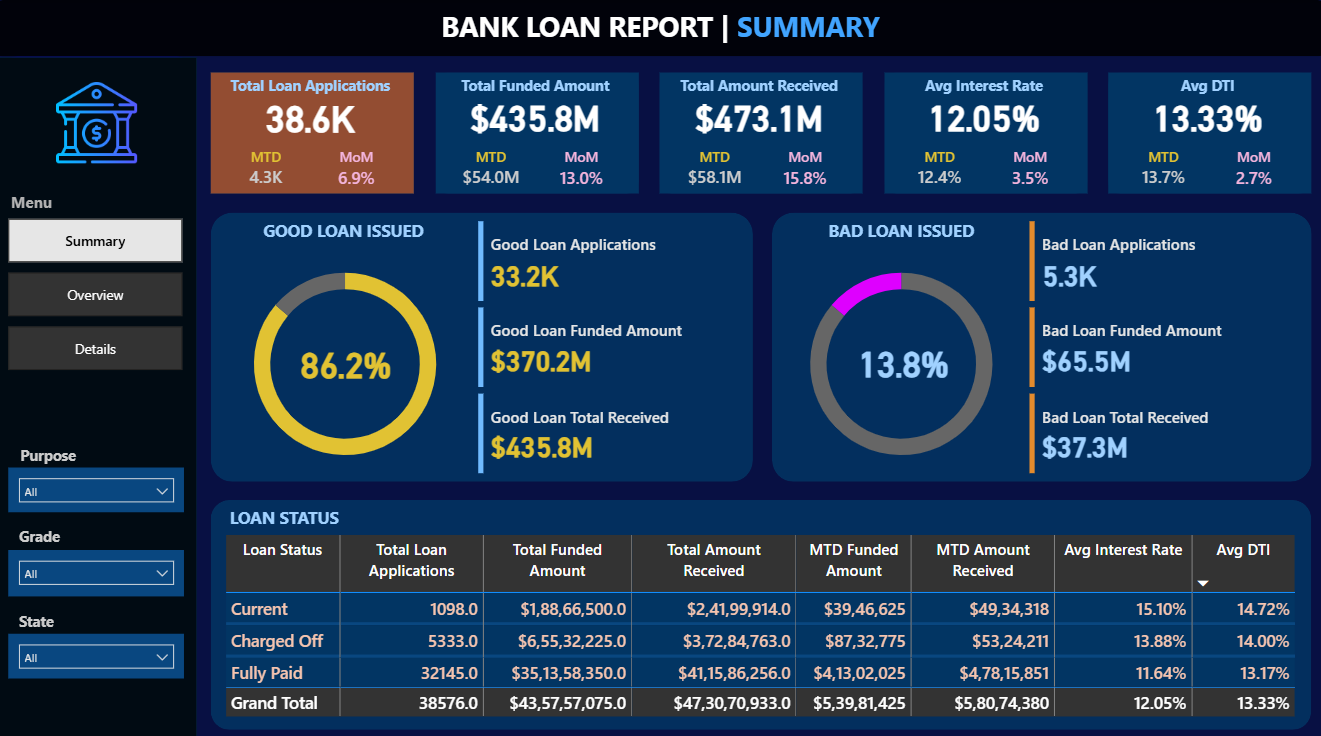

Layout of this report page (visuals, bound fields, positions):
{"tool":"powerbi","page":{"name":"Summary","canvas":[1280,720],"ordinal":0},"visuals":[{"type":"shape","box":[0,0,1280.5,54.6],"z":0},{"type":"group","id":"g1","title":"Group 1","box":[203.1,69.4,199.4,120.6],"z":0,"group":"g7"},{"type":"group","id":"g2","title":"Group 1","box":[419.5,69.4,199.4,120.6],"z":0,"group":"g8"},{"type":"group","id":"g3","title":"Group 1","box":[636,69.4,199.4,120.6],"z":0,"group":"g9"},{"type":"group","id":"g4","title":"Group 1","box":[852.6,69.4,199.4,120.6],"z":0,"group":"g10"},{"type":"group","id":"g5","title":"Group 1","box":[1069.1,69.4,199.4,120.6],"z":0,"group":"g11"},{"type":"textbox","box":[203.6,67.3,199.3,30.8],"z":1000,"group":"g7"},{"type":"textbox","box":[420,67.3,199.3,30.8],"z":1000,"group":"g8"},{"type":"textbox","box":[636.5,67.3,199.3,30.8],"z":1000,"group":"g9"},{"type":"textbox","box":[853.1,67.3,199.3,30.8],"z":1000,"group":"g10"},{"type":"textbox","box":[1069.6,67.3,199.3,30.8],"z":1000,"group":"g11"},{"type":"shape","box":[206.5,205.3,523.3,259.9],"z":1000},{"type":"textbox","box":[229.2,206.5,210.1,39.2],"z":1000,"group":"g6"},{"type":"textbox","box":[9.6,424.9,79.3,30.1],"z":1000,"group":"g20"},{"type":"textbox","box":[219.5,483.9,210.1,35.5],"z":1000,"group":"g19"},{"type":"textbox","box":[10.3,503.4,62.5,32.4],"z":1000,"group":"g21"},{"type":"textbox","box":[2.1,584.6,71.2,29.7],"z":1000,"group":"g22"},{"type":"shape","box":[747.6,205.3,521,259.9],"z":2000},{"type":"shape","box":[0,54.6,192.9,665.8],"z":3000},{"type":"shape","box":[206.5,69.4,195.9,117.2],"z":3000,"group":"g1"},{"type":"shape","box":[422.9,69.4,195.9,117.2],"z":3000,"group":"g2"},{"type":"shape","box":[639.4,69.4,195.9,117.2],"z":3000,"group":"g3"},{"type":"shape","box":[856,69.4,195.9,117.2],"z":3000,"group":"g4"},{"type":"shape","box":[1072.5,69.4,195.9,117.2],"z":3000,"group":"g5"},{"type":"group","id":"g6","title":"Group 2","box":[229.2,206.5,210.1,39.2],"z":4000},{"type":"textbox","box":[760.7,206.5,223.1,32],"z":5000},{"type":"shape","box":[0,54.9,192.7,665.1],"z":6000},{"type":"textbox","box":[403,2.1,474.5,45.6],"z":7000},{"type":"group","id":"g7","title":"Group 2","box":[203.1,67.3,199.8,122.6],"z":7000,"group":"g12"},{"type":"group","id":"g8","title":"Group 2","box":[419.5,67.3,199.8,122.6],"z":7000,"group":"g13"},{"type":"group","id":"g9","title":"Group 2","box":[636,67.3,199.8,122.6],"z":7000,"group":"g14"},{"type":"group","id":"g10","title":"Group 2","box":[852.6,67.3,199.8,122.6],"z":7000,"group":"g15"},{"type":"group","id":"g11","title":"Group 2","box":[1069.1,67.3,199.8,122.6],"z":7000,"group":"g16"},{"type":"card","fields":{"Values":["financial_loan.Total Loan Applications"]},"box":[203.1,88.3,199.3,45.5],"z":8000,"group":"g1"},{"type":"card","fields":{"Values":["financial_loan.Total Loan Amount"]},"box":[419.5,88.3,199.3,45.5],"z":8000,"group":"g2"},{"type":"card","fields":{"Values":["financial_loan.Total Amount Collection"]},"box":[636,88.3,199.3,45.5],"z":8000,"group":"g3"},{"type":"card","fields":{"Values":["financial_loan.Avg Interest Rate"]},"box":[852.6,88.3,199.3,45.5],"z":8000,"group":"g4"},{"type":"card","fields":{"Values":["financial_loan.Avg DTI"]},"box":[1069.1,88.3,199.3,45.5],"z":8000,"group":"g5"},{"type":"card","title":"MoM","fields":{"Values":["financial_loan.YOY Loan Applications"]},"box":[303.6,141.9,88.1,48.7],"z":8000,"group":"g12"},{"type":"card","title":"MoM","fields":{"Values":["financial_loan.YOY Loan Amount"]},"box":[520,141.9,88.1,48.7],"z":8000,"group":"g13"},{"type":"card","title":"MoM","fields":{"Values":["financial_loan.YOY Loan Collection"]},"box":[736.5,141.9,88.1,48.7],"z":8000,"group":"g14"},{"type":"card","title":"MoM","fields":{"Values":["financial_loan.YOY Int Rate"]},"box":[953.1,141.9,88.1,48.7],"z":8000,"group":"g15"},{"type":"card","title":"MoM","fields":{"Values":["financial_loan.YOY DTI"]},"box":[1169.6,141.9,88.1,48.7],"z":8000,"group":"g16"},{"type":"card","title":"MTD","fields":{"Values":["financial_loan.MTD Applications"]},"box":[209.8,142,99.3,48],"z":9000,"group":"g1"},{"type":"card","title":"MTD","fields":{"Values":["financial_loan.MTD Loan Amount"]},"box":[426.2,142,99.3,48],"z":9000,"group":"g2"},{"type":"card","title":"MTD","fields":{"Values":["financial_loan.MTD Loan Collection"]},"box":[642.7,142,99.3,48],"z":9000,"group":"g3"},{"type":"card","title":"MTD","fields":{"Values":["financial_loan.MTD Avg Int Rate"]},"box":[859.3,142,99.3,48],"z":9000,"group":"g4"},{"type":"card","title":"MTD","fields":{"Values":["financial_loan.MTD Avg DTI"]},"box":[1075.8,142,99.3,48],"z":9000,"group":"g5"},{"type":"group","id":"g12","title":"Group 3","box":[203.1,67.3,199.8,123.3],"z":10000},{"type":"group","id":"g13","title":"Group 3","box":[419.5,67.3,199.9,123.3],"z":11000},{"type":"donutChart","fields":{"Y":["financial_loan.Total Loan Applications"],"Category":["financial_loan.Fully Paid Status"]},"box":[211.2,236.2,250,230],"z":11000,"group":"g17"},{"type":"donutChart","fields":{"Y":["financial_loan.Total Loan Applications"],"Category":["financial_loan.Fully Paid Status"]},"box":[747.6,236.2,250,230],"z":11000,"group":"g18"},{"type":"group","id":"g14","title":"Group 3","box":[636,67.3,199.9,123.3],"z":12000},{"type":"card","fields":{"Values":["financial_loan.Good Loan Issued"]},"box":[279.6,318,114,63.2],"z":12000,"group":"g17"},{"type":"card","fields":{"Values":["financial_loan.Bad Loan"]},"box":[816.4,320.5,116.3,57],"z":12000,"group":"g18"},{"type":"group","id":"g15","title":"Group 3","box":[852.6,67.3,199.9,123.3],"z":13000},{"type":"group","id":"g16","title":"Group 3","box":[1069.1,67.3,199.9,123.3],"z":14000},{"type":"group","id":"g17","title":"Group 4","box":[211.2,236.2,250,230],"z":15000},{"type":"group","id":"g18","title":"Group 4","box":[747.6,236.2,250,230],"z":16000},{"type":"shape","box":[206.5,483,1062.1,221.9],"z":17000},{"type":"cardVisual","fields":{"Data":["financial_loan.Good Loan Applications","financial_loan.Good Loan Funded Amount","financial_loan.Good Loan Total Collection"]},"box":[459.3,208.9,265.8,255.1],"z":18000},{"type":"cardVisual","fields":{"Data":["financial_loan.Bad Loan Applications","financial_loan.Bad Loan Funded Amount","financial_loan.Bad Loan Total Collection"]},"box":[992.1,208.9,265.8,255.1],"z":19000},{"type":"tableEx","title":"LOAN ISSUED BY STATUS","fields":{"Values":["financial_loan.loan_status","financial_loan.Total Loan Applications","financial_loan.Total Loan Amount","financial_loan.Total Amount Collection","financial_loan.MTD Loan Amount","financial_loan.MTD Loan Collection","financial_loan.Avg Interest Rate","financial_loan.Avg DTI"]},"box":[214.4,511.8,1046.3,192.7],"z":20000},{"type":"group","id":"g19","title":"Group 2","box":[219.5,483.9,210.1,35.5],"z":21000},{"type":"image","box":[26.8,69.2,138.4,99.3],"z":22000},{"type":"textbox","box":[8.3,180.3,157.5,34.2],"z":23000},{"type":"pageNavigator","box":[11.4,211.4,168.6,147.3],"z":24000},{"type":"slicer","fields":{"Values":["financial_loan.Good v Bad Loan"]},"box":[10.4,450.9,169.7,43],"z":25000},{"type":"slicer","fields":{"Values":["financial_loan.grade"]},"box":[10.7,530.6,169.9,44.5],"z":26000},{"type":"slicer","fields":{"Values":["financial_loan.address_state"]},"box":[10.4,611.2,169.9,43.5],"z":27000},{"type":"group","id":"g20","title":"Group 2","box":[9.6,424.9,79.3,30.1],"z":28000},{"type":"group","id":"g21","title":"Group 2","box":[10.3,503.4,62.5,32.4],"z":29000},{"type":"group","id":"g22","title":"Group 2","box":[2.1,584.6,71.2,29.7],"z":30000}]}

Visuals, with their boxes in screenshot pixels (x1, y1, x2, y2), scaled from the page's 1280x720 canvas onto the 1321x736 screenshot:
shape: Rect(0, 0, 1320, 56)
"Group 1" group: Rect(210, 71, 415, 194)
"Group 1" group: Rect(433, 71, 639, 194)
"Group 1" group: Rect(656, 71, 862, 194)
"Group 1" group: Rect(880, 71, 1086, 194)
"Group 1" group: Rect(1103, 71, 1309, 194)
textbox: Rect(210, 69, 416, 100)
textbox: Rect(433, 69, 639, 100)
textbox: Rect(657, 69, 863, 100)
textbox: Rect(880, 69, 1086, 100)
textbox: Rect(1104, 69, 1310, 100)
shape: Rect(213, 210, 753, 476)
textbox: Rect(237, 211, 453, 251)
textbox: Rect(10, 434, 92, 465)
textbox: Rect(227, 495, 443, 531)
textbox: Rect(11, 515, 75, 548)
textbox: Rect(2, 598, 76, 628)
shape: Rect(772, 210, 1309, 476)
shape: Rect(0, 56, 199, 735)
shape: Rect(213, 71, 415, 191)
shape: Rect(436, 71, 639, 191)
shape: Rect(660, 71, 862, 191)
shape: Rect(883, 71, 1086, 191)
shape: Rect(1107, 71, 1309, 191)
"Group 2" group: Rect(237, 211, 453, 251)
textbox: Rect(785, 211, 1015, 244)
shape: Rect(0, 56, 199, 735)
textbox: Rect(416, 2, 906, 49)
"Group 2" group: Rect(210, 69, 416, 194)
"Group 2" group: Rect(433, 69, 639, 194)
"Group 2" group: Rect(656, 69, 863, 194)
"Group 2" group: Rect(880, 69, 1086, 194)
"Group 2" group: Rect(1103, 69, 1310, 194)
card - financial_loan.Total Loan Applications: Rect(210, 90, 415, 137)
card - financial_loan.Total Loan Amount: Rect(433, 90, 639, 137)
card - financial_loan.Total Amount Collection: Rect(656, 90, 862, 137)
card - financial_loan.Avg Interest Rate: Rect(880, 90, 1086, 137)
card - financial_loan.Avg DTI: Rect(1103, 90, 1309, 137)
"MoM" card: Rect(313, 145, 404, 195)
"MoM" card: Rect(537, 145, 628, 195)
"MoM" card: Rect(760, 145, 851, 195)
"MoM" card: Rect(984, 145, 1075, 195)
"MoM" card: Rect(1207, 145, 1298, 195)
"MTD" card: Rect(217, 145, 319, 194)
"MTD" card: Rect(440, 145, 542, 194)
"MTD" card: Rect(663, 145, 766, 194)
"MTD" card: Rect(887, 145, 989, 194)
"MTD" card: Rect(1110, 145, 1213, 194)
"Group 3" group: Rect(210, 69, 416, 195)
"Group 3" group: Rect(433, 69, 639, 195)
donutChart - financial_loan.Total Loan Applications x financial_loan.Fully Paid Status: Rect(218, 241, 476, 477)
donutChart - financial_loan.Total Loan Applications x financial_loan.Fully Paid Status: Rect(772, 241, 1030, 477)
"Group 3" group: Rect(656, 69, 863, 195)
card - financial_loan.Good Loan Issued: Rect(289, 325, 406, 390)
card - financial_loan.Bad Loan: Rect(843, 328, 963, 386)
"Group 3" group: Rect(880, 69, 1086, 195)
"Group 3" group: Rect(1103, 69, 1310, 195)
"Group 4" group: Rect(218, 241, 476, 477)
"Group 4" group: Rect(772, 241, 1030, 477)
shape: Rect(213, 494, 1309, 721)
cardVisual - financial_loan.Good Loan Applications x financial_loan.Good Loan Funded Amount: Rect(474, 214, 748, 474)
cardVisual - financial_loan.Bad Loan Applications x financial_loan.Bad Loan Funded Amount: Rect(1024, 214, 1298, 474)
"LOAN ISSUED BY STATUS" tableEx: Rect(221, 523, 1301, 720)
"Group 2" group: Rect(227, 495, 443, 531)
image: Rect(28, 71, 170, 172)
textbox: Rect(9, 184, 171, 219)
pageNavigator: Rect(12, 216, 186, 367)
slicer - financial_loan.Good v Bad Loan: Rect(11, 461, 186, 505)
slicer - financial_loan.grade: Rect(11, 542, 186, 588)
slicer - financial_loan.address_state: Rect(11, 625, 186, 669)
"Group 2" group: Rect(10, 434, 92, 465)
"Group 2" group: Rect(11, 515, 75, 548)
"Group 2" group: Rect(2, 598, 76, 628)
